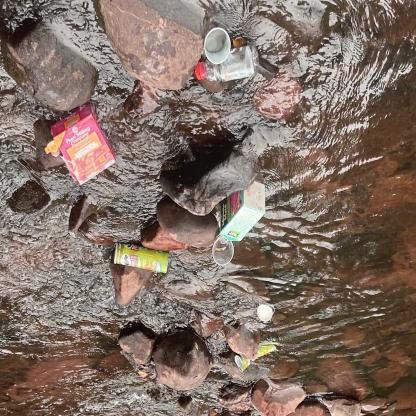Metal: (110, 236, 174, 278), (230, 338, 280, 374)
Plastic: (192, 25, 265, 88), (207, 236, 237, 273)
Trash: (253, 301, 276, 327)
